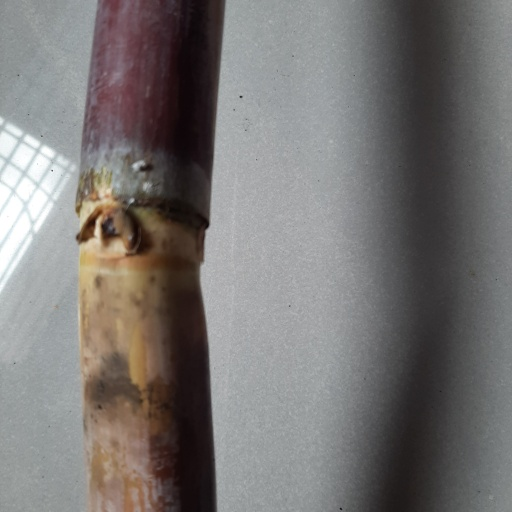Damage_Bud: (74, 202, 146, 262)
